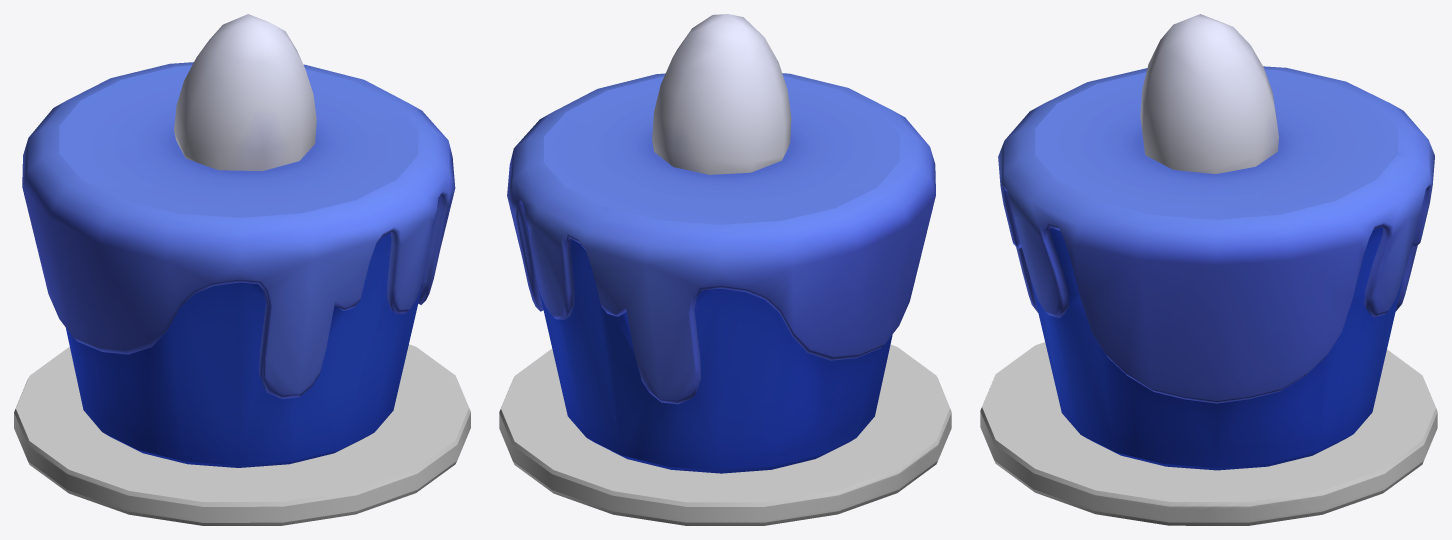
The model's file is model_Cake_Cream.fbx.
3 views of the same model, side by side, from view 1: azimuth 30°, elevation 25°; view 2: azimuth 150°, elevation 25°; view 3: azimuth 270°, elevation 25° (orthographic).
Parts seen in each view (by area): view 1: model_Cake_Cream; view 2: model_Cake_Cream; view 3: model_Cake_Cream.
Part boxes in pixels (x1=…): model_Cake_Cream: x1=14, y1=14, x2=470, y2=525; model_Cake_Cream: x1=499, y1=14, x2=951, y2=525; model_Cake_Cream: x1=980, y1=14, x2=1437, y2=525.
Bounding box in the file's own units: 46.01 × 48.51 × 46.72.
